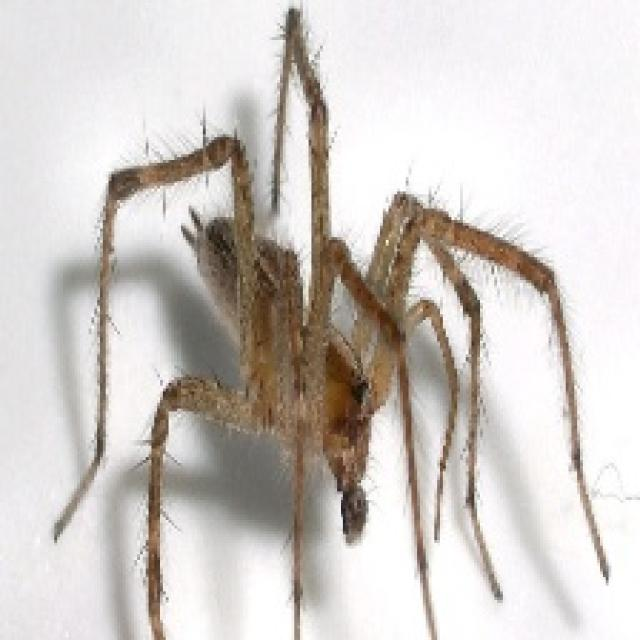Non venomous spider: (113, 66, 531, 530)
